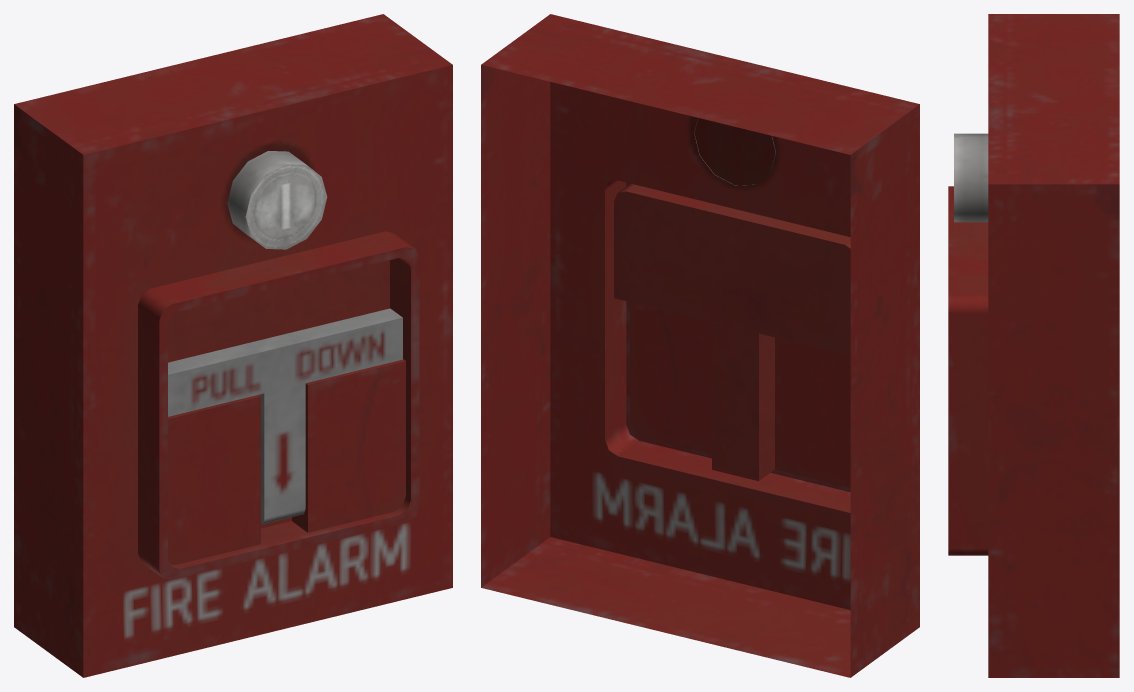
The model's file is SM_Fire_Safety_01f.fbx.
The picture shows the model from 3 angles, left to right: view 1: azimuth 30°, elevation 25°; view 2: azimuth 150°, elevation 25°; view 3: azimuth 270°, elevation 25°; orthographic projection. The views are drawn at different scales.
Parts seen in each view (by area): view 1: SM_Fire_Safety_01f_LOD0; view 2: SM_Fire_Safety_01f_LOD0; view 3: SM_Fire_Safety_01f_LOD0.
Boxes of the visible parts, box(x1,y1,x2,y2) form: SM_Fire_Safety_01f_LOD0: box(14, 14, 452, 677); SM_Fire_Safety_01f_LOD0: box(481, 14, 919, 677); SM_Fire_Safety_01f_LOD0: box(948, 14, 1119, 677).
Bounding box in the file's own units: 11.01 × 4.68 × 14.89.
1 material, 1 textured.
